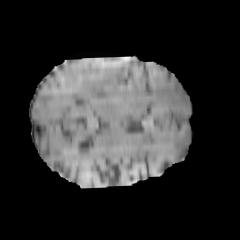glioma: (61, 56, 186, 111)
